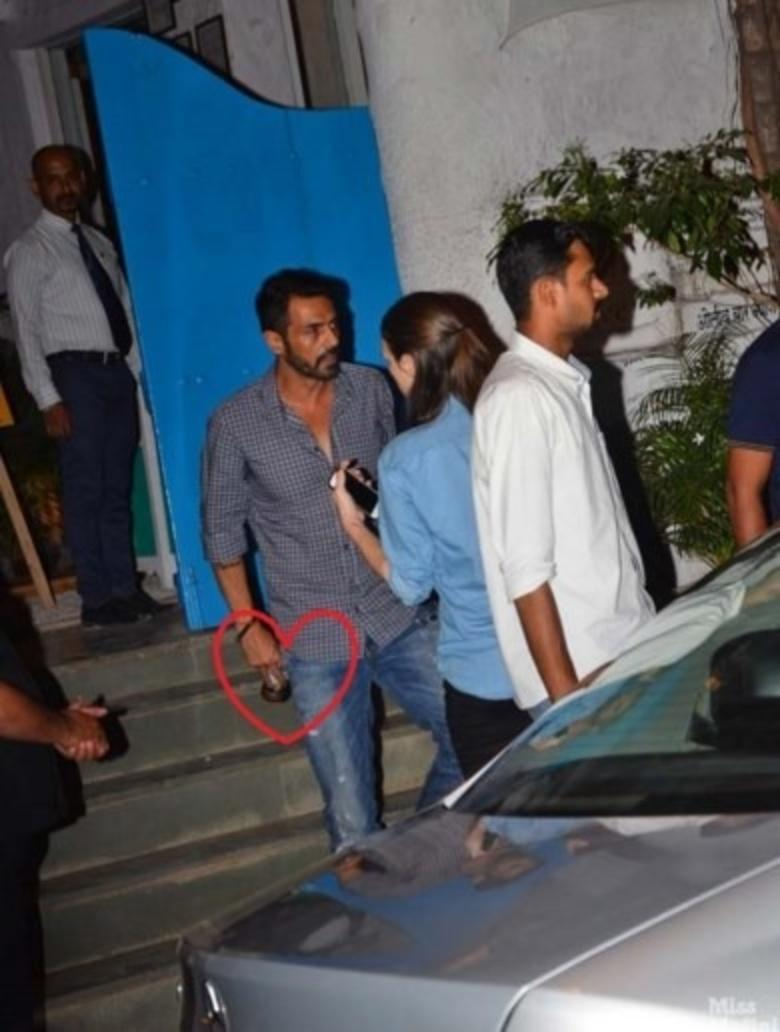Drunk: (278, 291, 339, 381)
